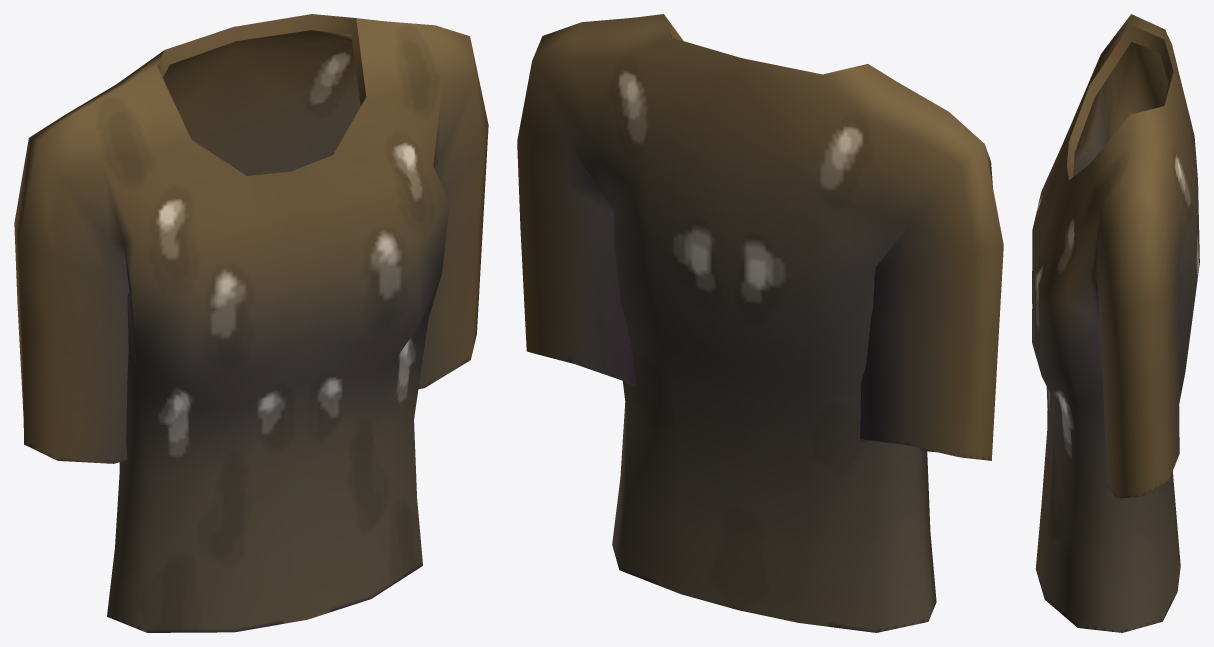
The model's file is Camisa.fbx.
3 views of the same model, side by side, from view 1: azimuth 30°, elevation 25°; view 2: azimuth 150°, elevation 25°; view 3: azimuth 270°, elevation 25° (orthographic). The views are drawn at different scales.
Visible parts, largest first — view 1: Cylinder.091; view 2: Cylinder.091; view 3: Cylinder.091.
Part boxes in pixels (left/top/right/bottom): Cylinder.091: left=14, top=14, right=488, bottom=632; Cylinder.091: left=517, top=14, right=1003, bottom=632; Cylinder.091: left=1032, top=14, right=1199, bottom=632.
Size of the model in its own units: 28.85 by 31.71 by 9.66.
